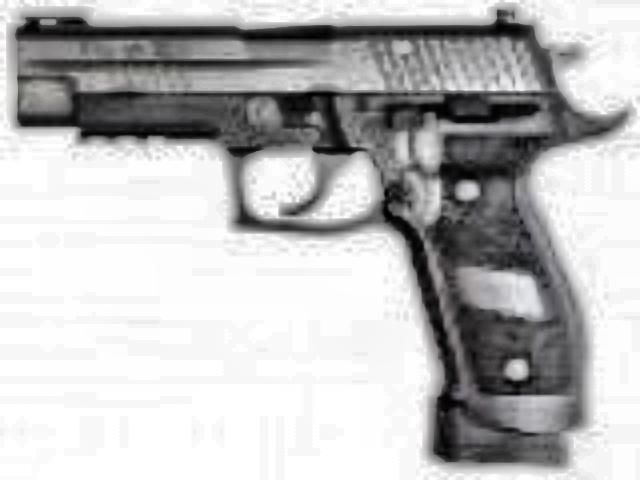pistol: (12, 8, 608, 472)
